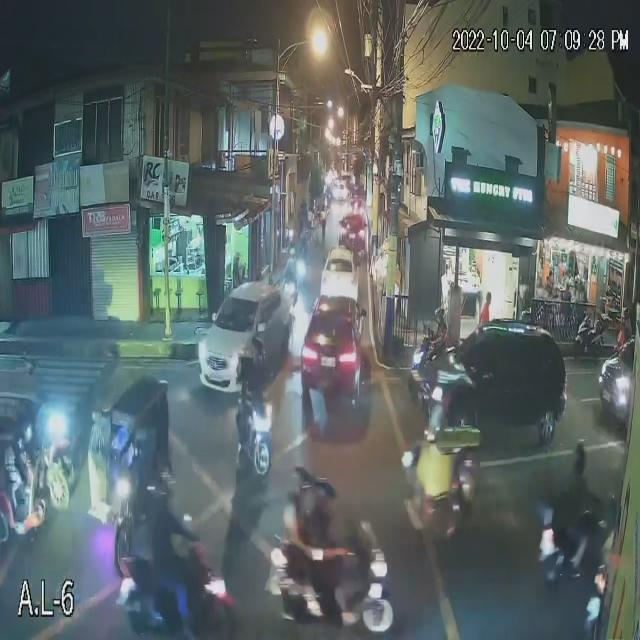helmet: (145, 470, 179, 504), (314, 479, 340, 514), (291, 465, 314, 503), (248, 335, 269, 370), (432, 305, 447, 322)
motorcycle: (269, 516, 394, 637), (113, 543, 238, 639), (230, 396, 273, 485), (411, 329, 433, 370)
rider: (147, 508, 194, 640), (306, 509, 358, 626), (281, 501, 309, 585), (234, 370, 272, 430), (436, 322, 449, 353)
